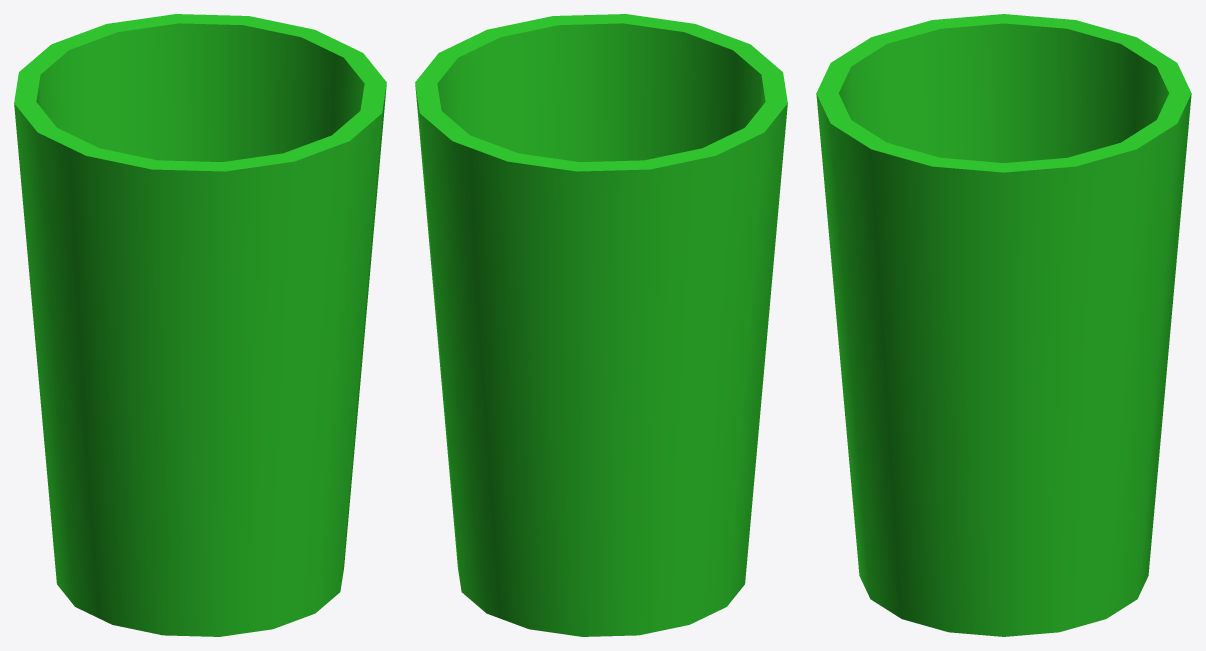
Rendered from green_cup.fbx.
3 renders of one model, left to right at view 1: azimuth 30°, elevation 25°; view 2: azimuth 150°, elevation 25°; view 3: azimuth 270°, elevation 25°, orthographic.
Visible parts, largest first — view 1: green_cup; view 2: green_cup; view 3: green_cup.
Boxes of the visible parts, x1,y1,x2,y2 form: green_cup: (14,14,386,636); green_cup: (415,14,787,636); green_cup: (816,14,1191,636).
Size of the model in its own units: 14.8 by 21 by 14.8.
Materials: 1 (1 with a texture image).
